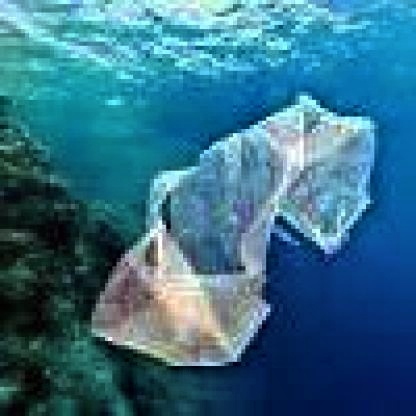pbag: (88, 92, 378, 370)
